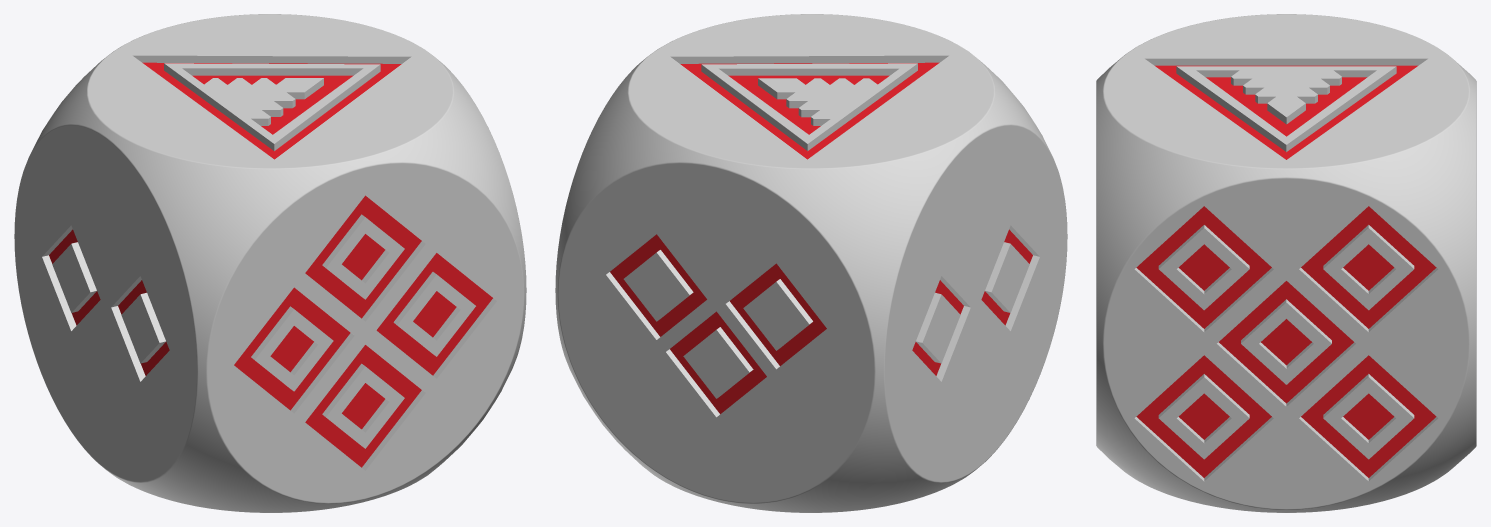
File: degenesix_pureBlood.gltf
The picture shows the model from 3 angles, left to right: view 1: azimuth 30°, elevation 25°; view 2: azimuth 150°, elevation 25°; view 3: azimuth 270°, elevation 25°; orthographic projection.
Visible parts, largest first — view 1: DegeneSIX; view 2: DegeneSIX; view 3: DegeneSIX.
Part boxes in pixels (bbox=[...]): DegeneSIX: bbox=[14, 14, 526, 512]; DegeneSIX: bbox=[555, 14, 1067, 512]; DegeneSIX: bbox=[1096, 14, 1476, 512].
Size of the model in its own units: 105 by 105 by 105.
